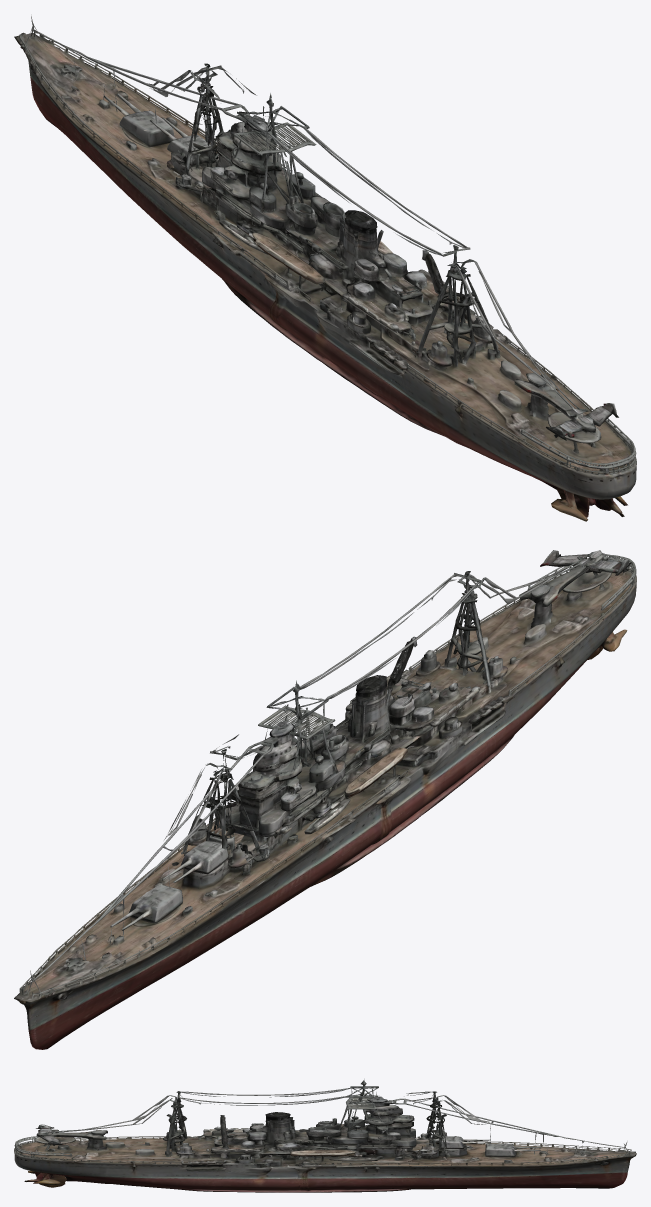
The model's file is cruiser.mogami.glb.
3 views of the same model, one above another, from view 1: azimuth 30°, elevation 25°; view 2: azimuth 150°, elevation 25°; view 3: azimuth 270°, elevation 25° (orthographic). The views are drawn at different scales.
Parts seen in each view (by area): view 1: Mogami class; view 2: Mogami class; view 3: Mogami class.
Boxes of the visible parts, x1,y1,x2,y2 form: Mogami class: [14, 16, 636, 521]; Mogami class: [14, 550, 636, 1049]; Mogami class: [14, 1078, 636, 1192].
Size of the model in its own units: 22.13 by 38 by 202.
1 material, 1 textured.
